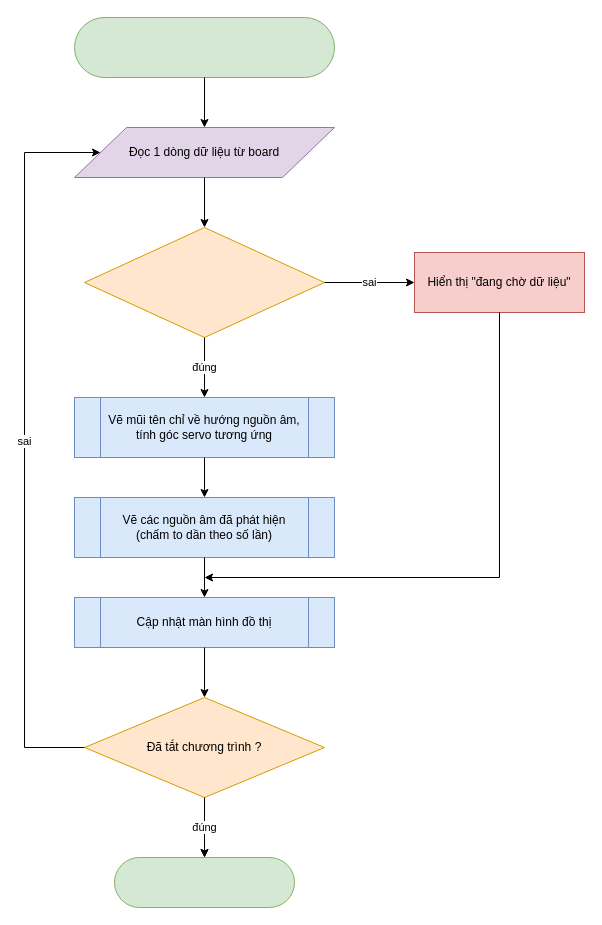
The diagram is 602 pixels wide and 925 high, and some of its shapes have lost their labels. The shapes that lost their labels are listed below. From the top down, each one's centre as x and y in pixels, then its label:
At (x=204, y=47): "BẮT ĐẦU (mở cổng VCP, đọc DOA từ board)".
At (x=204, y=282): "Có góc hướng âm (az) ?".
At (x=204, y=882): "KẾT THÚC".
